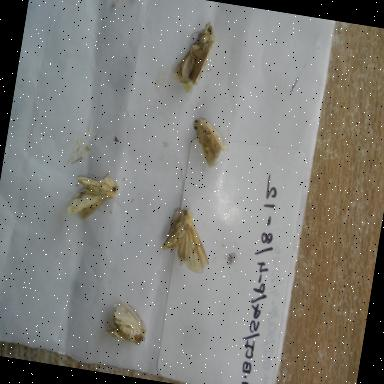abw: (152, 195, 225, 280), (164, 14, 224, 104), (58, 166, 128, 235), (176, 107, 236, 178), (98, 292, 154, 352)
